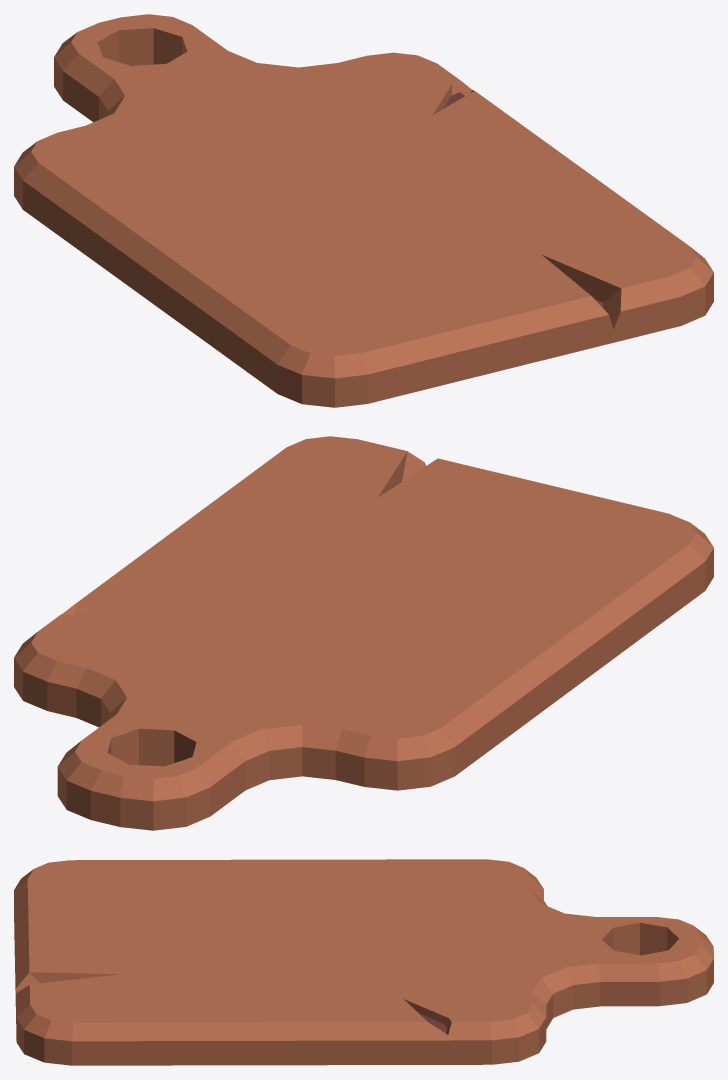
Rendered from Cutting Board 01.fbx.
3 views of the same model, one above another, from view 1: azimuth 30°, elevation 25°; view 2: azimuth 150°, elevation 25°; view 3: azimuth 270°, elevation 25° (orthographic). The views are drawn at different scales.
Visible parts, largest first — view 1: Cutting Board 01; view 2: Cutting Board 01; view 3: Cutting Board 01.
Boxes of the visible parts, x1,y1,x2,y2 form: Cutting Board 01: [14, 14, 713, 407]; Cutting Board 01: [14, 436, 713, 830]; Cutting Board 01: [14, 859, 713, 1065].
Bounding box in the file's own units: 64.26 × 6.32 × 108.
